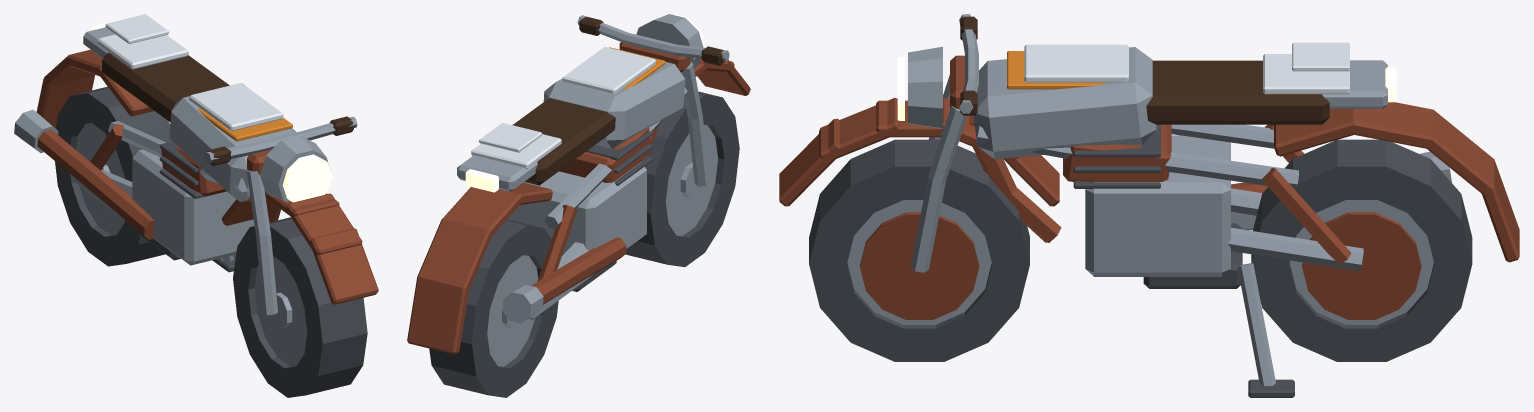
The model's file is Motorcycle.fbx.
3 renders of one model, left to right at view 1: azimuth 30°, elevation 25°; view 2: azimuth 150°, elevation 25°; view 3: azimuth 270°, elevation 25°, orthographic. The views are drawn at different scales.
Visible parts, largest first — view 1: MotorcycleBody, MotorcycleWheelF, MotorcycleWheelR; view 2: MotorcycleBody, MotorcycleWheelR, MotorcycleWheelF; view 3: MotorcycleBody, MotorcycleWheelF, MotorcycleWheelR.
Part boxes in pixels (x1,y1,x2,y2): MotorcycleBody: [14, 14, 378, 315]; MotorcycleWheelF: [233, 217, 367, 397]; MotorcycleWheelR: [55, 86, 172, 266]; MotorcycleBody: [407, 14, 750, 354]; MotorcycleWheelR: [429, 219, 558, 397]; MotorcycleWheelF: [625, 91, 739, 267]; MotorcycleBody: [779, 14, 1519, 397]; MotorcycleWheelF: [809, 139, 1029, 361]; MotorcycleWheelR: [1251, 139, 1472, 361].
Bounding box in the file's own units: 76.27 × 113 × 254.
